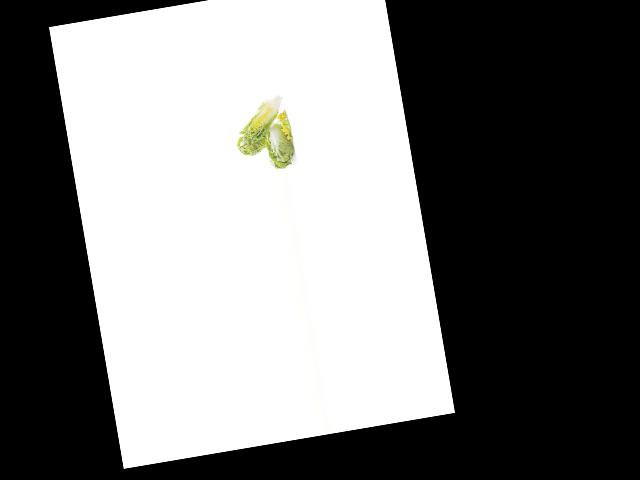lettuce: (260, 115, 299, 169)
